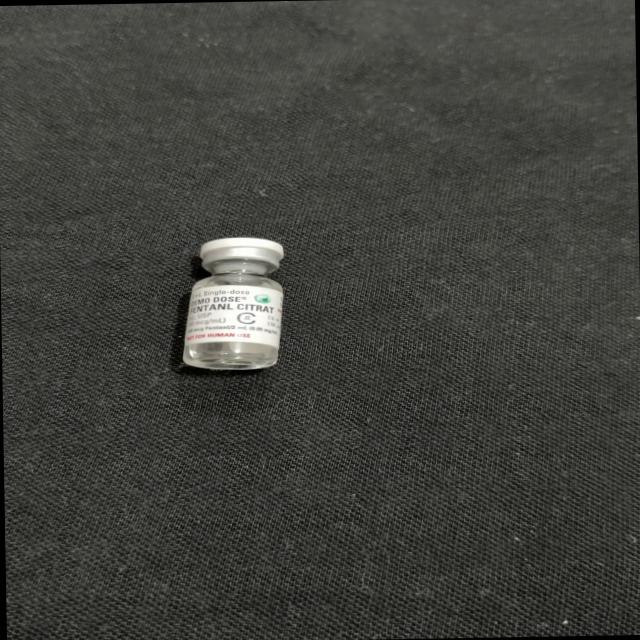fentanl_citrat: (180, 238, 282, 368)
